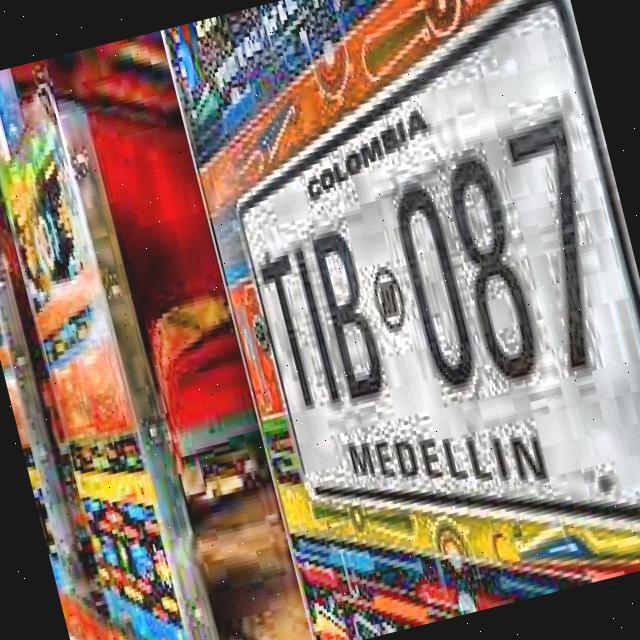0: (384, 181, 486, 395)
7: (494, 110, 636, 394)
8: (433, 154, 552, 394)
B: (304, 225, 394, 408)
I: (290, 242, 348, 410)
T: (254, 250, 330, 416)
